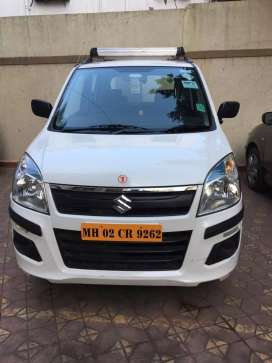license_plate: (80, 223, 163, 244)
